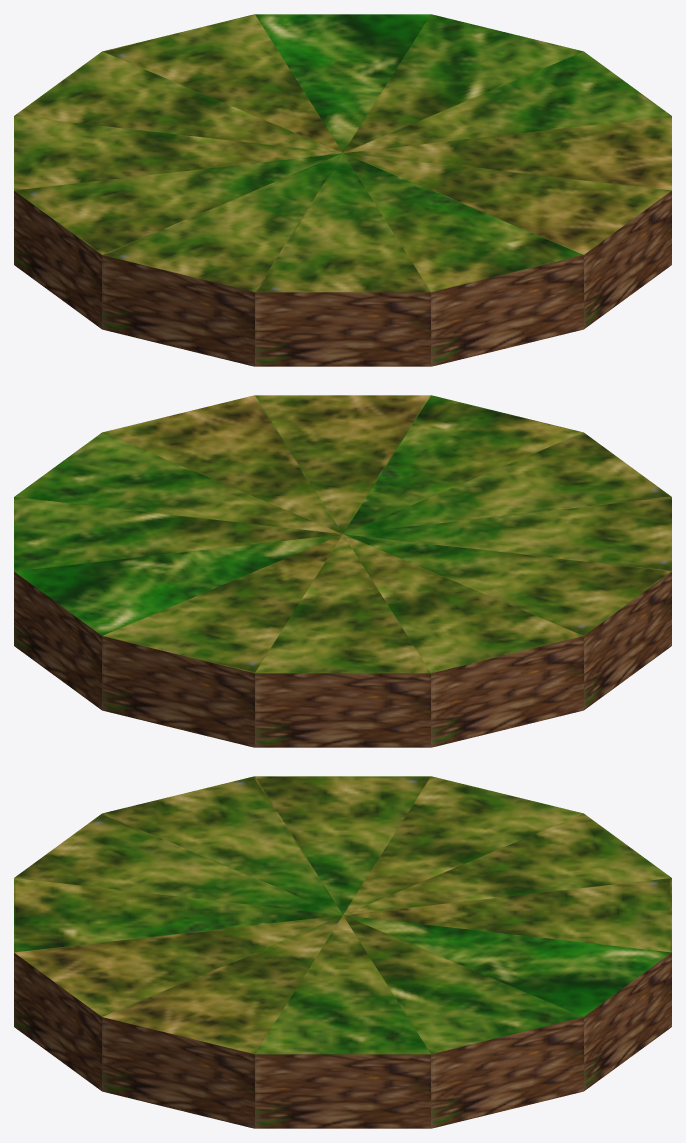
The model's file is Platform in the sky.obj.
3 views of the same model, one above another, from view 1: azimuth 30°, elevation 25°; view 2: azimuth 150°, elevation 25°; view 3: azimuth 270°, elevation 25° (orthographic).
Visible parts, largest first — view 1: cylinder; view 2: cylinder; view 3: cylinder.
Boxes of the visible parts, x1=… form: cylinder: x1=14, y1=14, x2=671, y2=366; cylinder: x1=14, y1=395, x2=671, y2=747; cylinder: x1=14, y1=776, x2=671, y2=1128.
Size of the model in its own units: 1 by 0.125 by 1.
2 materials, 2 textured.
